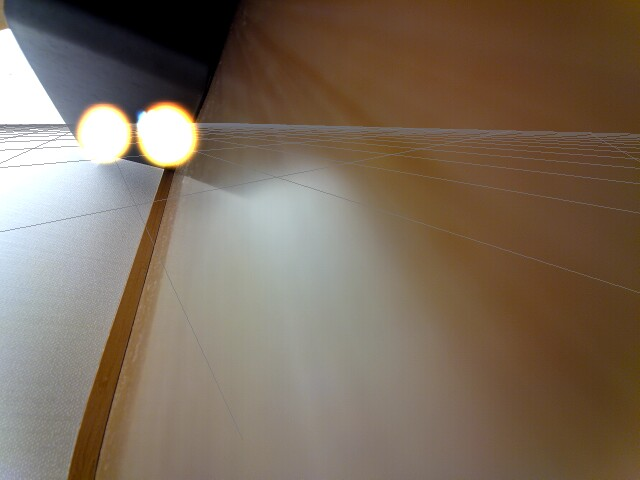fire: (136, 102, 201, 167), (72, 100, 134, 162)
